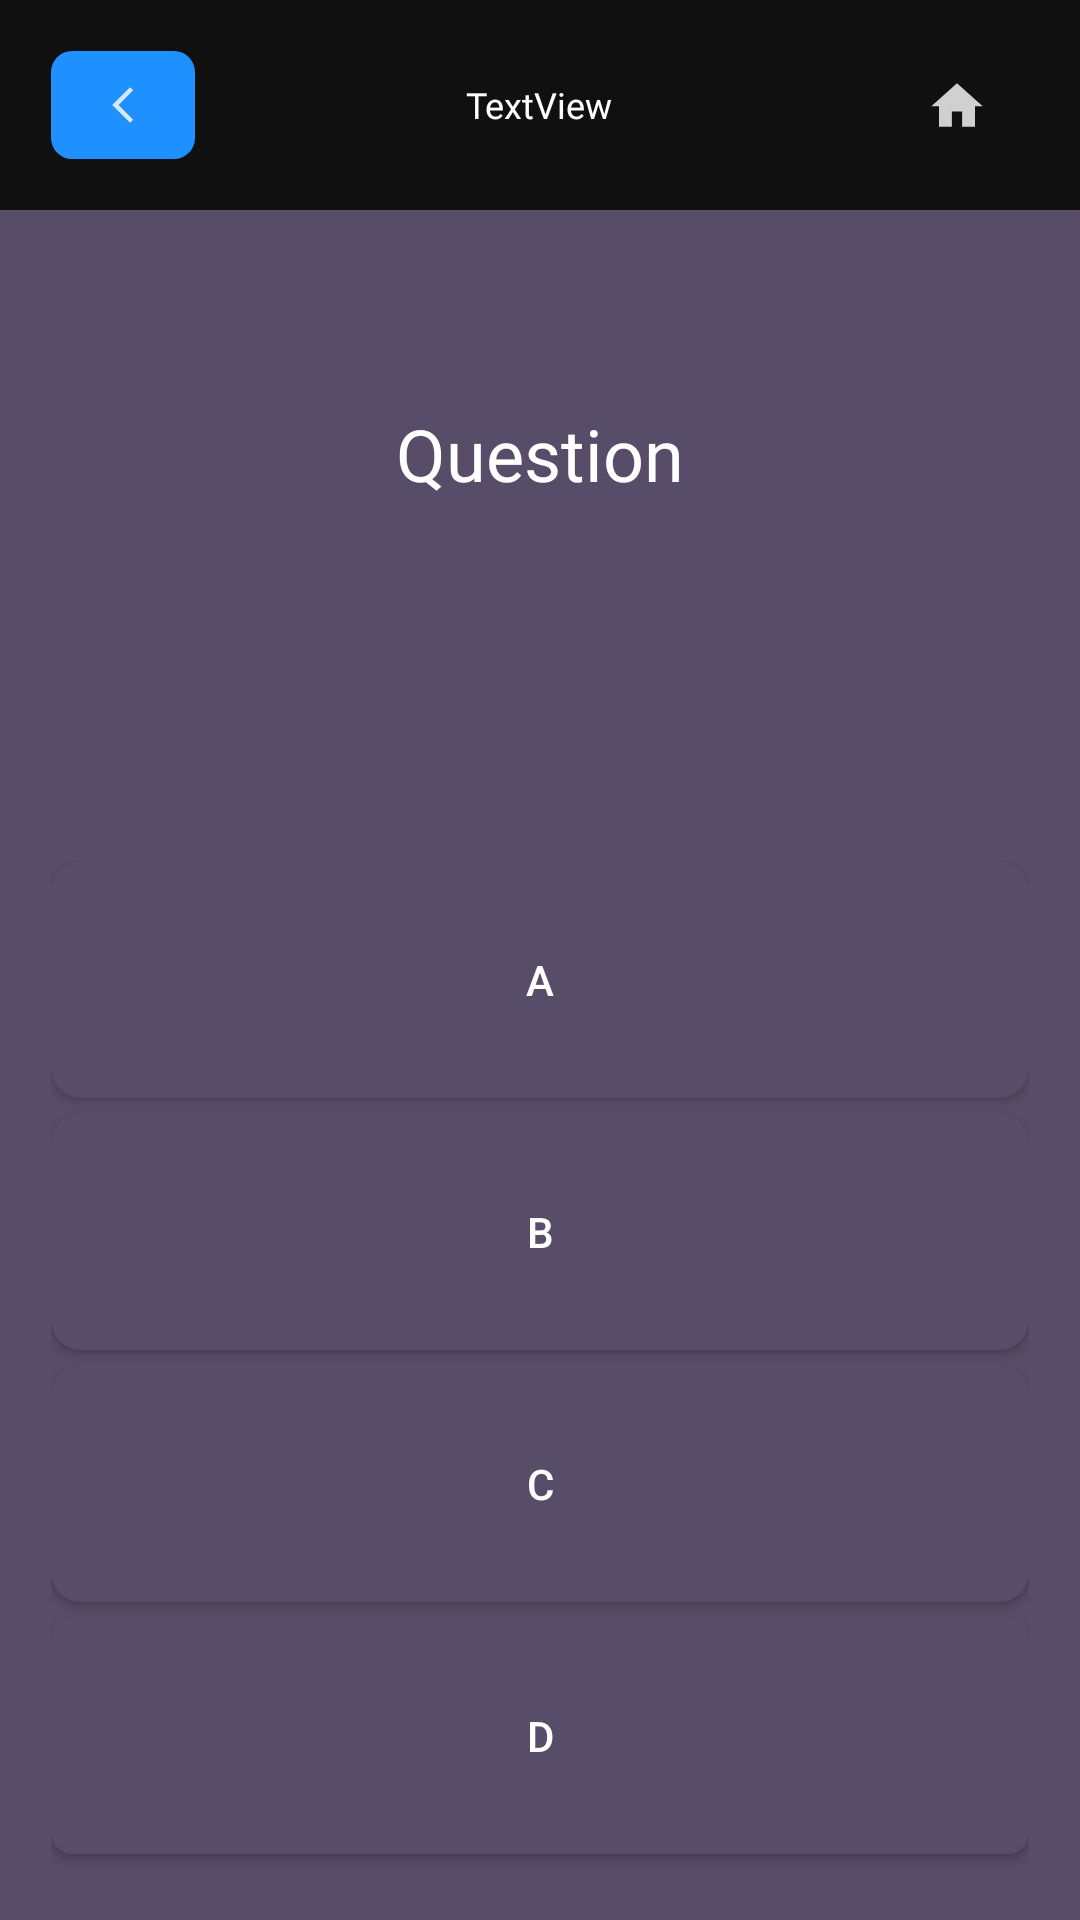

Icons on this 1080×1920 Android screen, each with its box as [x1,y1,x2,y2]:
back arrow: [51,51,195,159]
home: [931,83,983,127]
